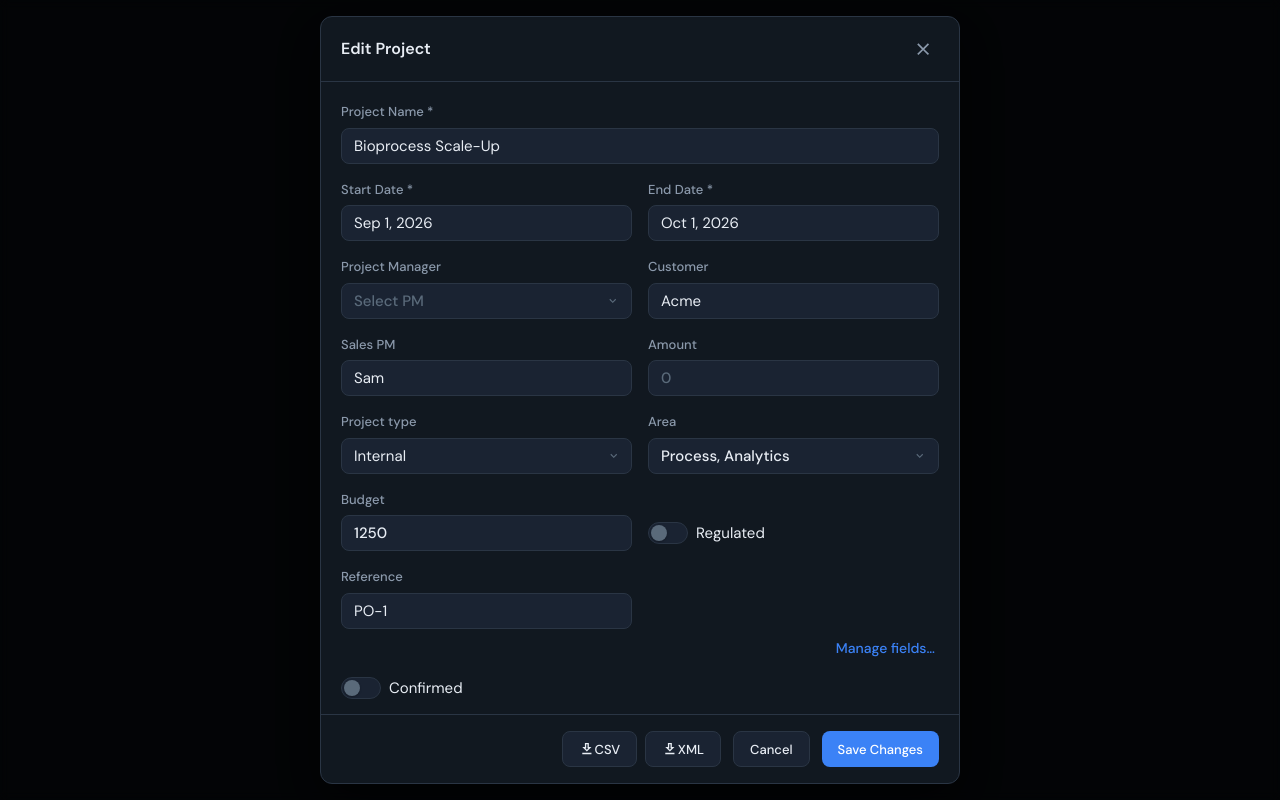
it: ProjectModal Volume format › shows a volume that is not a finite number in place and sends nothing
Click the button "Save Changes". click: (880, 749)
box: [822,731,939,767]
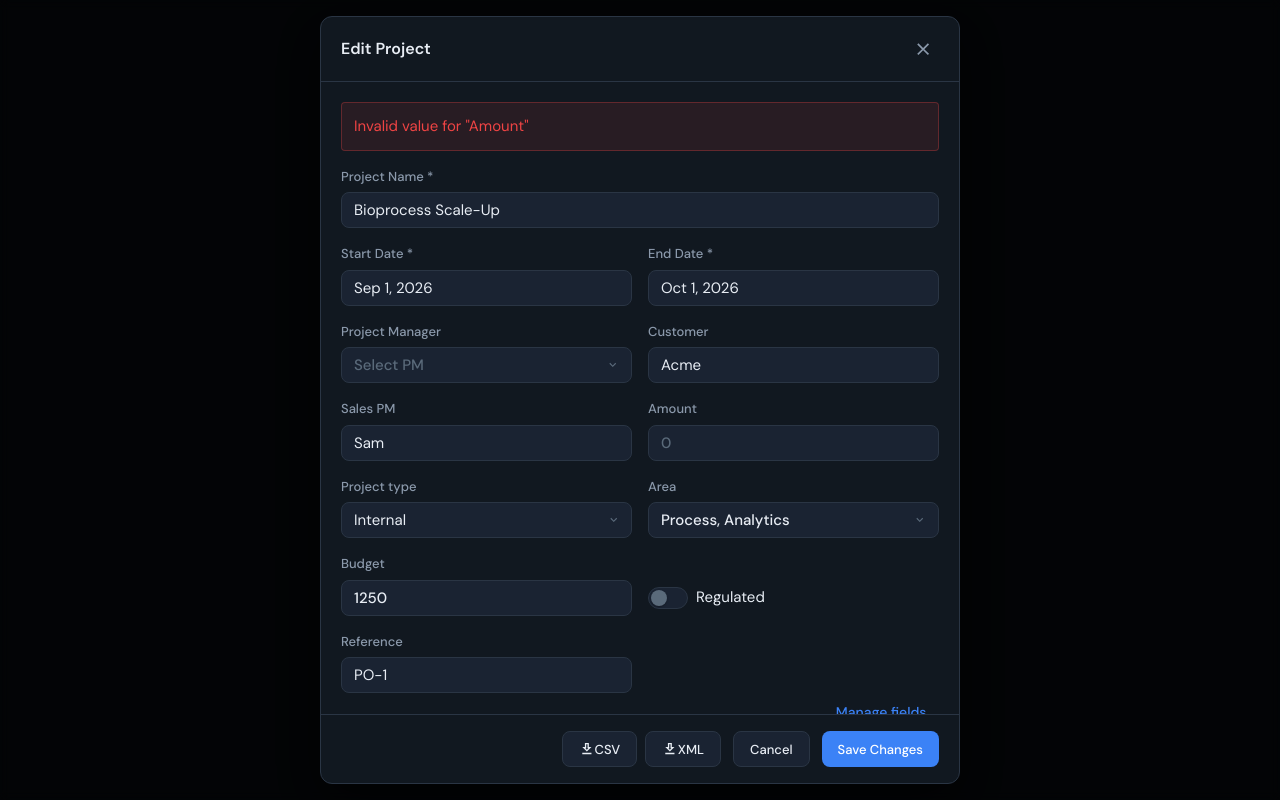
Expected: the text "Invalid value for \"Amount\"" is shown, [341,102,939,150]
